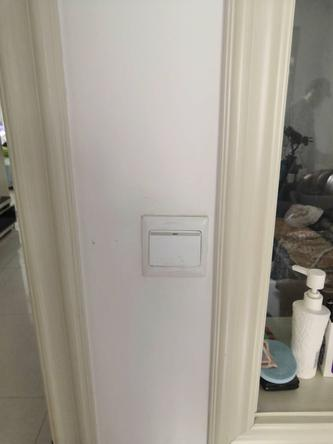switch: (147, 227, 204, 269)
